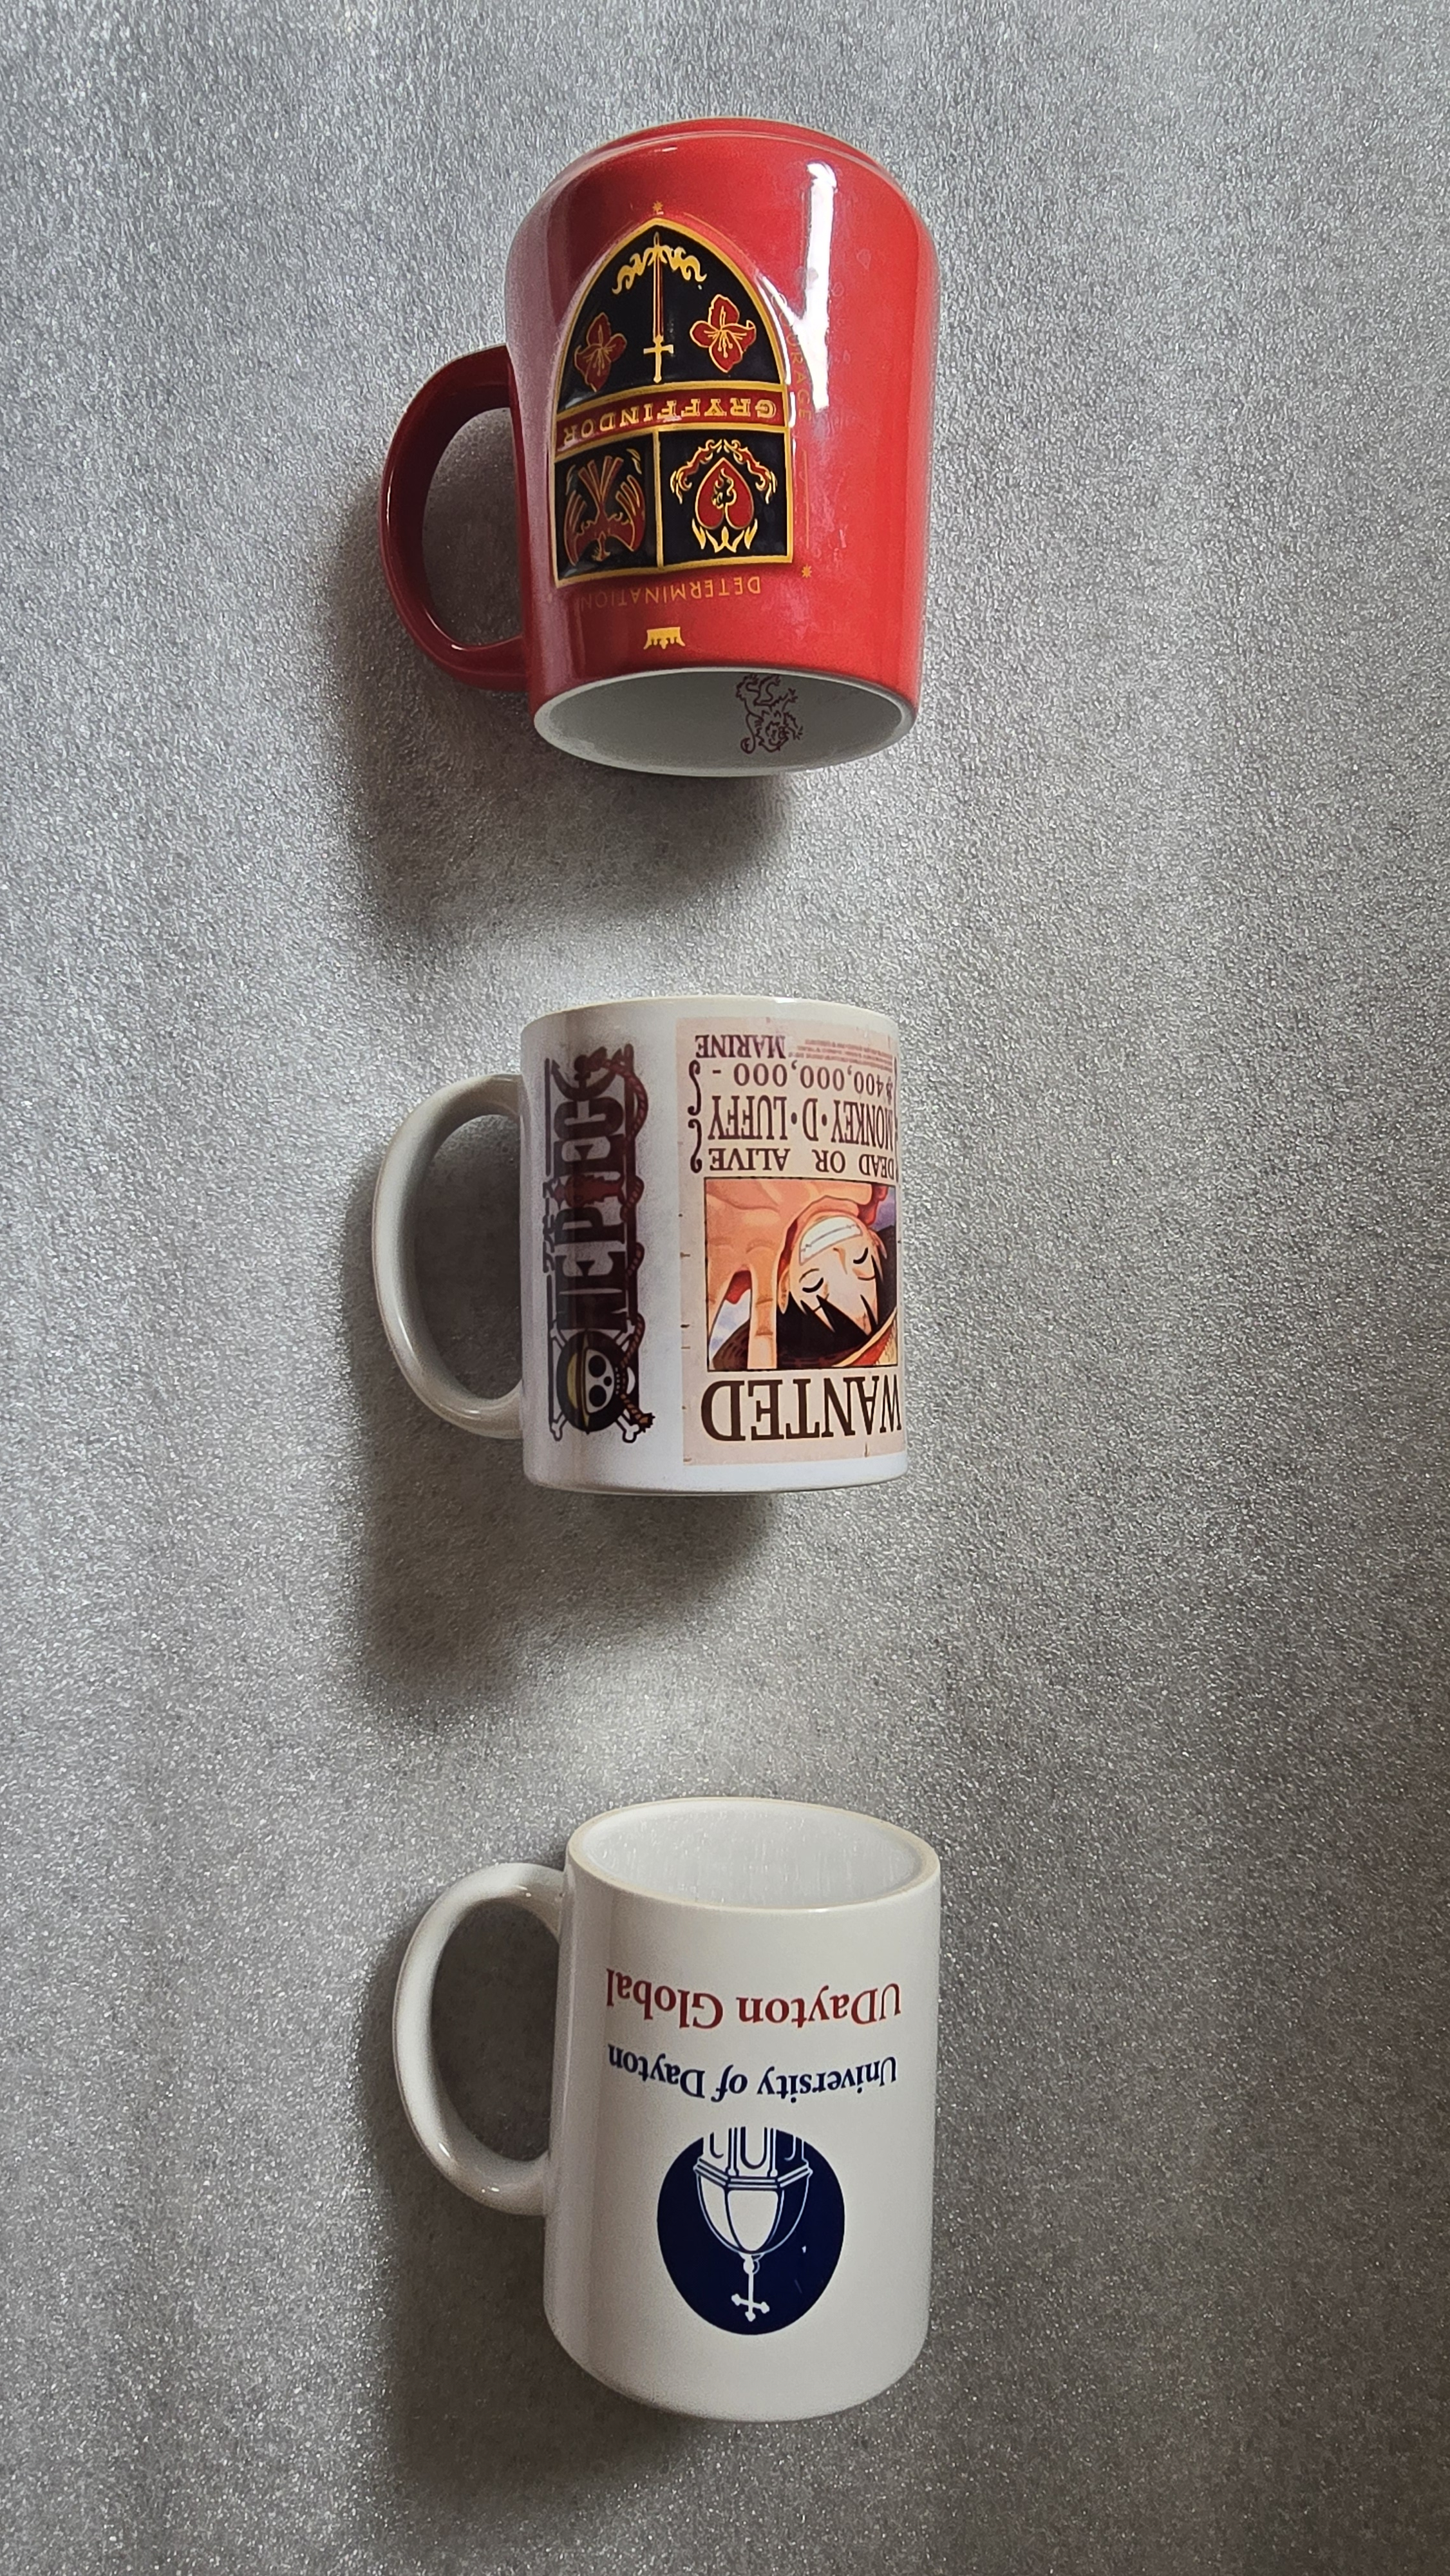mug: (357, 103, 1013, 791), (380, 1778, 969, 2434), (354, 936, 953, 1537)
